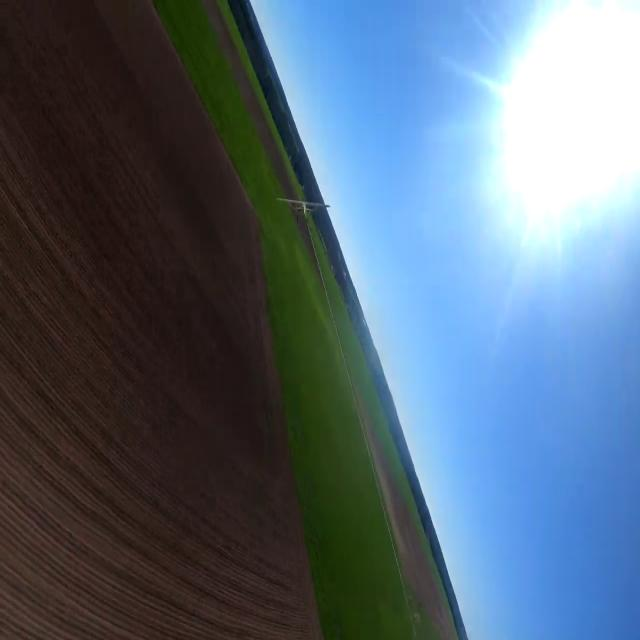iha: (277, 192, 331, 218)
